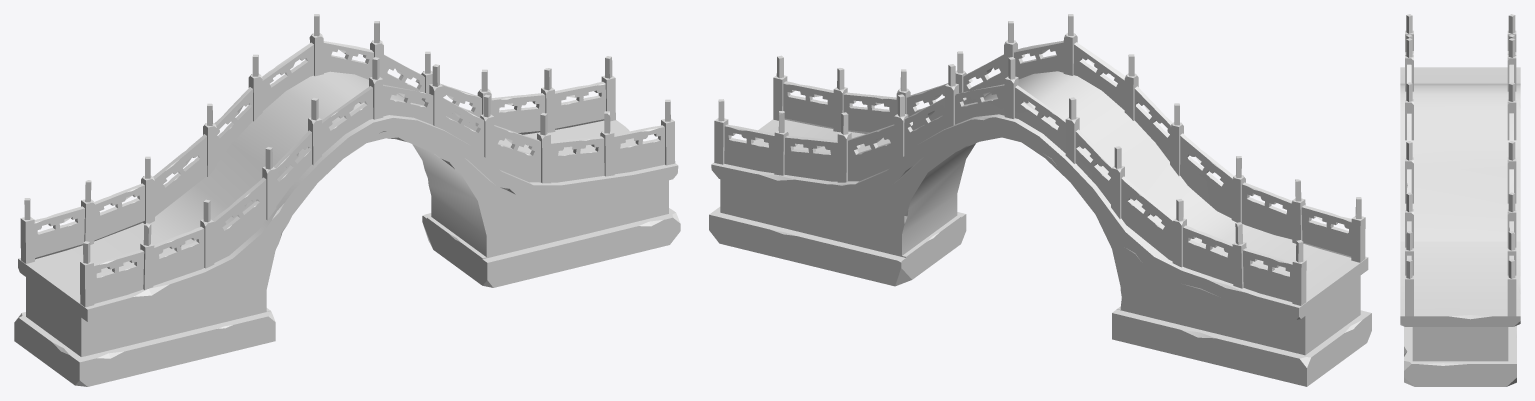
The model's file is SM_Bridge_01.fbx.
The picture shows the model from 3 angles, left to right: view 1: azimuth 30°, elevation 25°; view 2: azimuth 150°, elevation 25°; view 3: azimuth 270°, elevation 25°; orthographic projection. The views are drawn at different scales.
Parts seen in each view (by area): view 1: SM_Bridge_2; view 2: SM_Bridge_2; view 3: SM_Bridge_2.
Part boxes in pixels (x1=…): SM_Bridge_2: x1=14, y1=14, x2=680, y2=386; SM_Bridge_2: x1=709, y1=14, x2=1371, y2=386; SM_Bridge_2: x1=1400, y1=14, x2=1520, y2=386.
Bounding box in the file's own units: 2857 × 1159 × 572.
